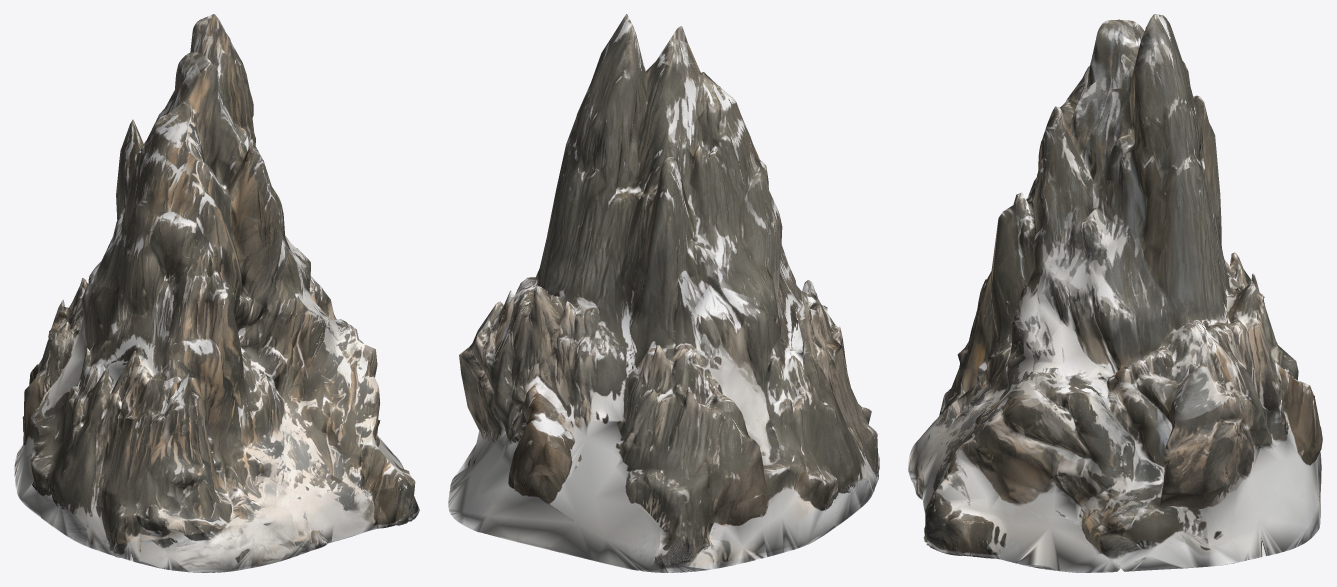
The model's file is ice_peak.glb.
3 renders of one model, left to right at view 1: azimuth 30°, elevation 25°; view 2: azimuth 150°, elevation 25°; view 3: azimuth 270°, elevation 25°, orthographic. The views are drawn at different scales.
Parts seen in each view (by area): view 1: ice_peak; view 2: ice_peak; view 3: ice_peak.
Part boxes in pixels (left/top/right/bottom): ice_peak: left=14, top=14, right=419, bottom=572; ice_peak: left=448, top=14, right=879, bottom=572; ice_peak: left=908, top=14, right=1322, bottom=572.
Size of the model in its own units: 147 by 190 by 148.
1 material, 1 textured.
